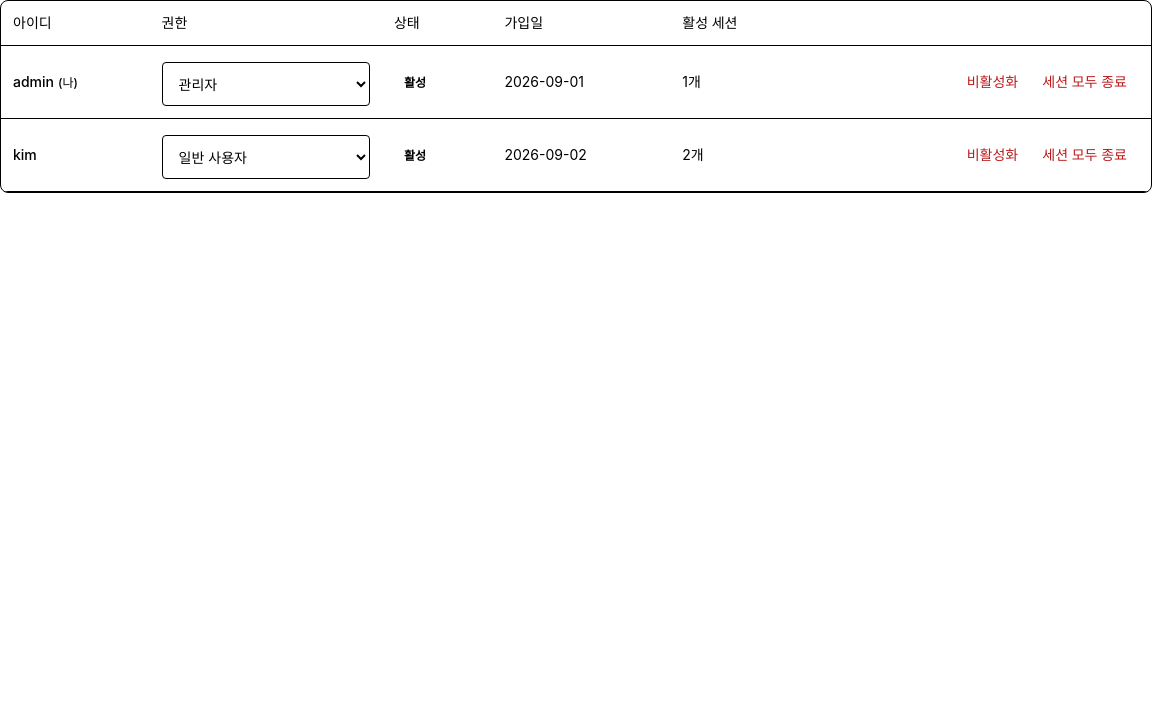
Test: UsersTable › 권한 변경은 확인 후 PATCH 본문으로 액션을 부르고, 거부 문구를 보여 준다
Check: the column heading "admin(나)" is shown, box [1,46,150,118]
Select "일반 사용자" in the dropdown named "admin 권한" in the row of "admin" at {"x": 266, "y": 84}, box [162,62,370,106]
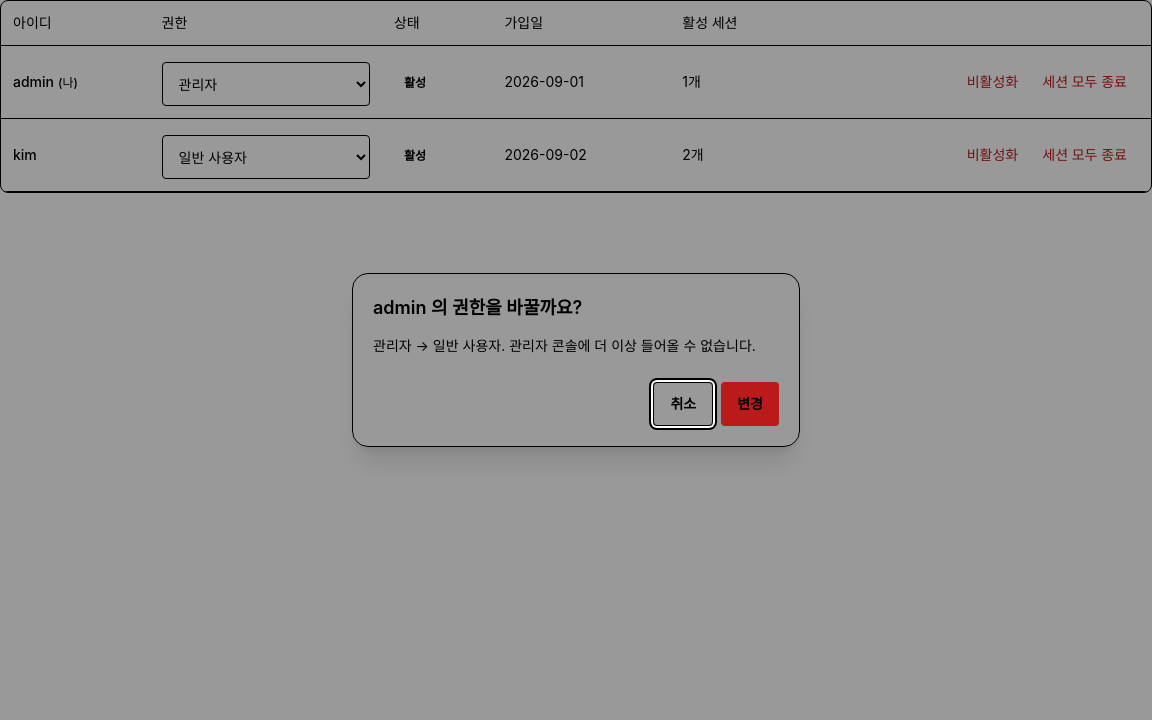
Click the button "변경" at {"x": 750, "y": 404}, box [721,382,779,426]
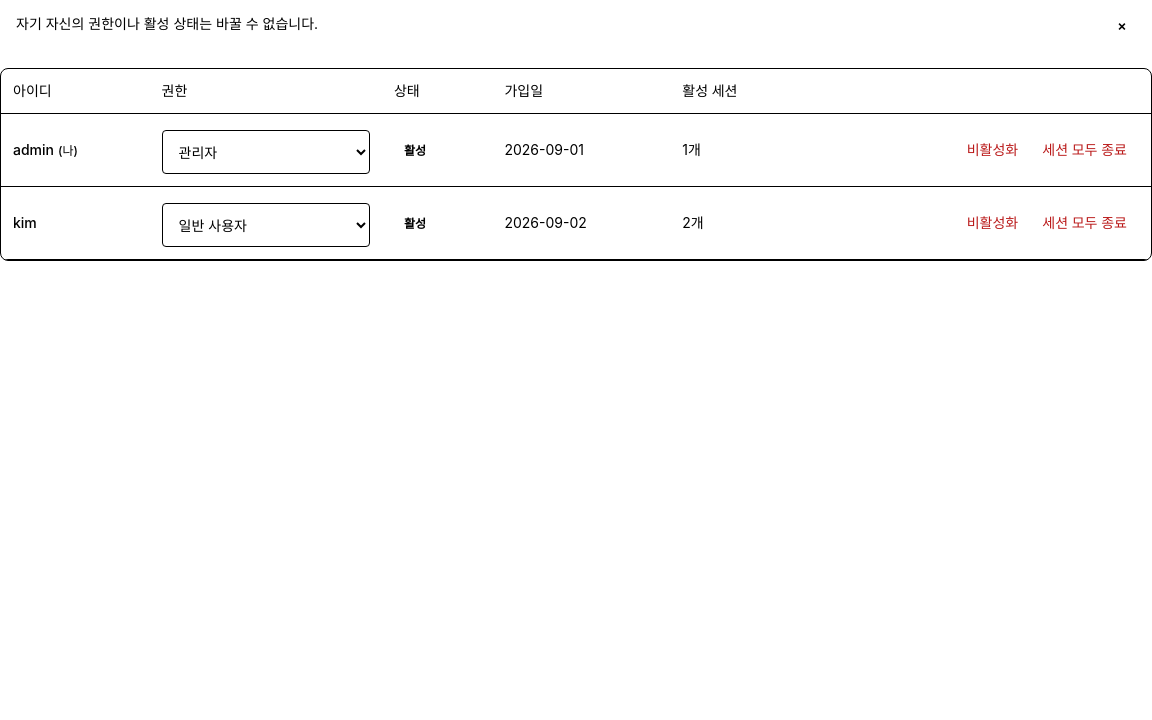
Check: the message shows "자기 자신의 권한이나 활성 상태는 바꿀 수 없습니다.", box [16,15,318,32]
